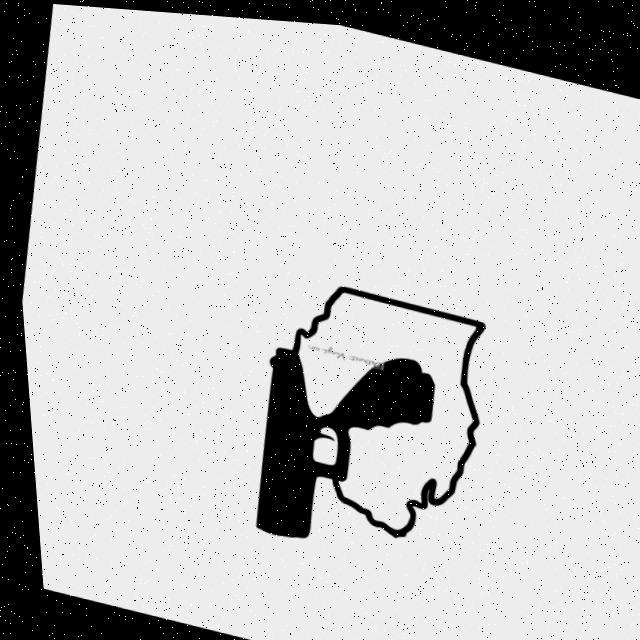pistol: (228, 313, 449, 570)
